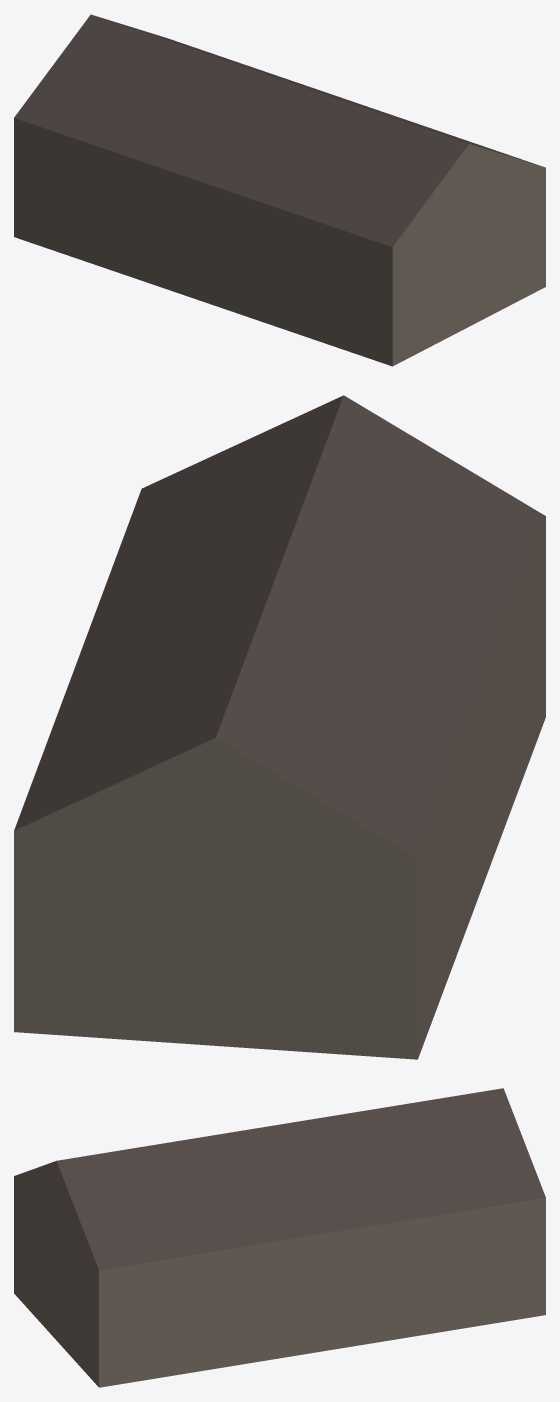
3 views of the same model, one above another, from view 1: azimuth 30°, elevation 25°; view 2: azimuth 150°, elevation 25°; view 3: azimuth 270°, elevation 25° (orthographic). The views are drawn at different scales.
Parts seen in each view (by area): view 1: HP-w859078914; view 2: HP-w859078914; view 3: HP-w859078914.
Part boxes in pixels (left/top/right/bottom): HP-w859078914: left=14, top=14, right=545, bottom=366; HP-w859078914: left=14, top=395, right=545, bottom=1059; HP-w859078914: left=14, top=1088, right=545, bottom=1387.
Bounding box in the file's own units: 18.32 × 9.2 × 24.67.
